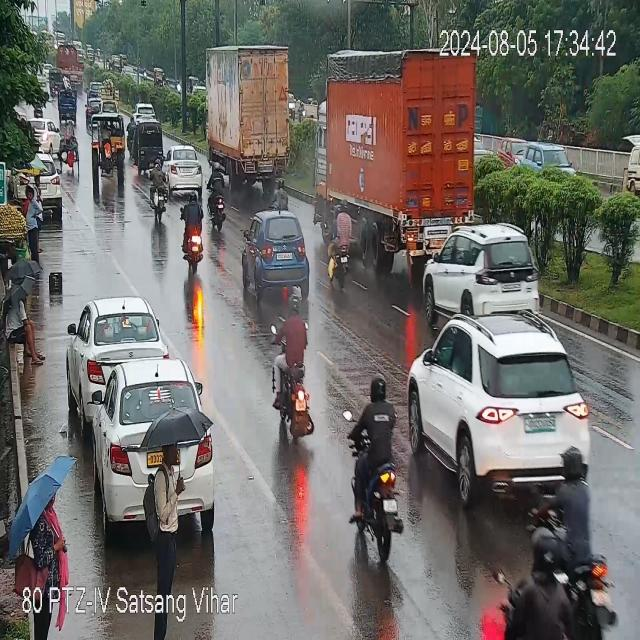2-wheelers: (555, 445, 615, 632), (499, 508, 582, 640), (348, 368, 398, 568), (269, 288, 320, 451), (181, 185, 204, 274), (331, 200, 350, 288), (148, 150, 165, 223), (208, 160, 226, 228), (126, 115, 135, 154)
auto: (96, 114, 128, 157), (135, 122, 163, 170), (61, 120, 80, 174)
car: (408, 314, 591, 504), (93, 363, 207, 473), (426, 226, 541, 319), (69, 297, 164, 403), (238, 213, 315, 310), (91, 111, 129, 197), (160, 148, 206, 198), (522, 138, 579, 173), (42, 150, 67, 211)
pedestrian: (148, 443, 189, 588), (29, 500, 68, 634), (3, 286, 45, 369), (5, 297, 45, 363), (25, 185, 39, 263), (35, 167, 45, 225)
truck: (318, 50, 484, 274), (207, 44, 302, 199)
